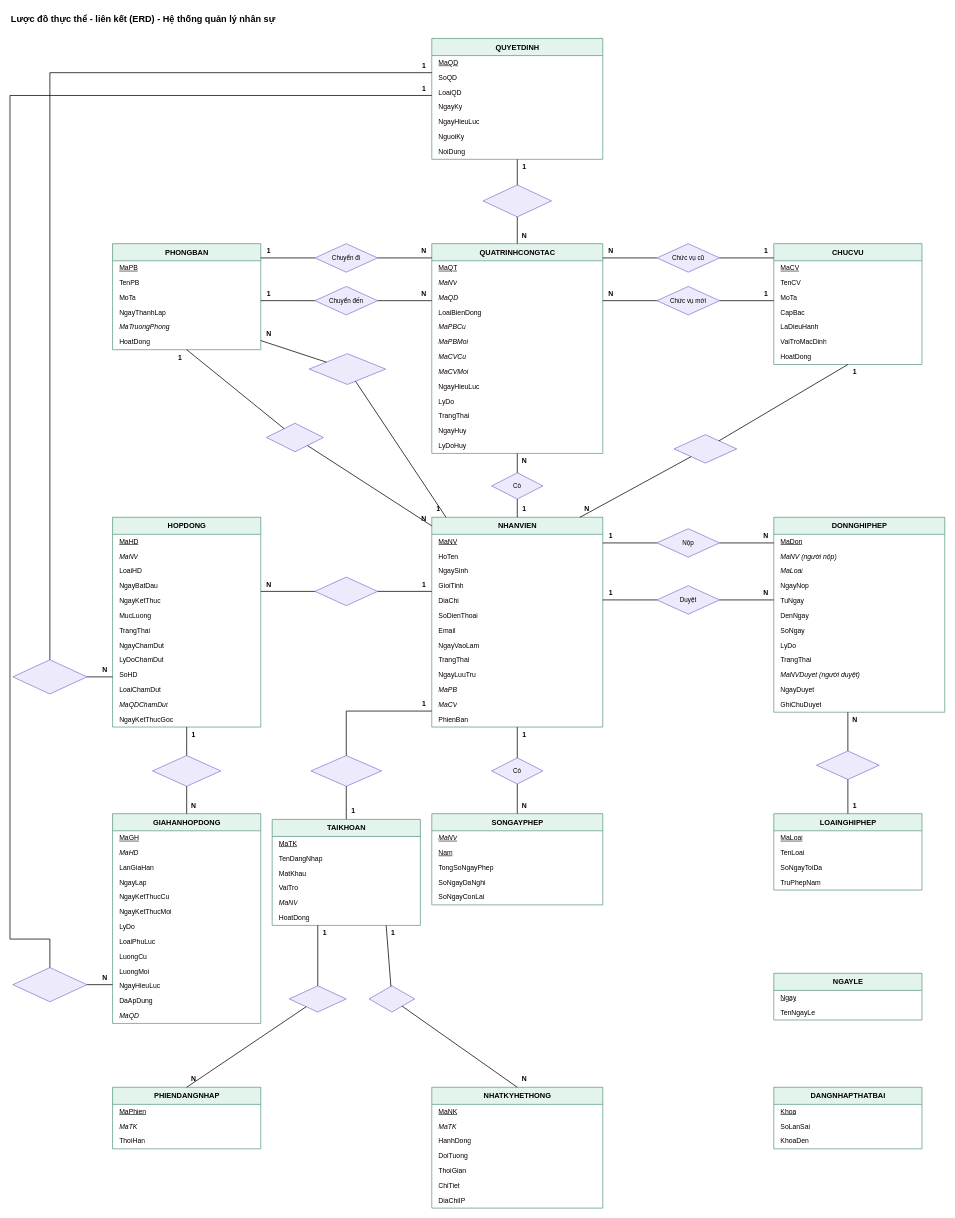
Some shapes in this 955 by 1218 pixel diagram are drawn without their labels. Here are the shapes that lost their labels. From the top down, the centre of each, then its label:
the point at 517,200: Căn cứ
the point at 347,368: Là trưởng phòng
the point at 294,437: Thuộc
the point at 705,448: Đảm nhiệm
the point at 346,591: Ký
the point at 49,676: Căn cứ chấm dứt
the point at 186,770: Được gia hạn
the point at 346,770: Có tài khoản
the point at 847,764: Thuộc loại
the point at 49,984: Căn cứ phụ lục
the point at 317,998: Mở phiên
the point at 392,998: Ghi
